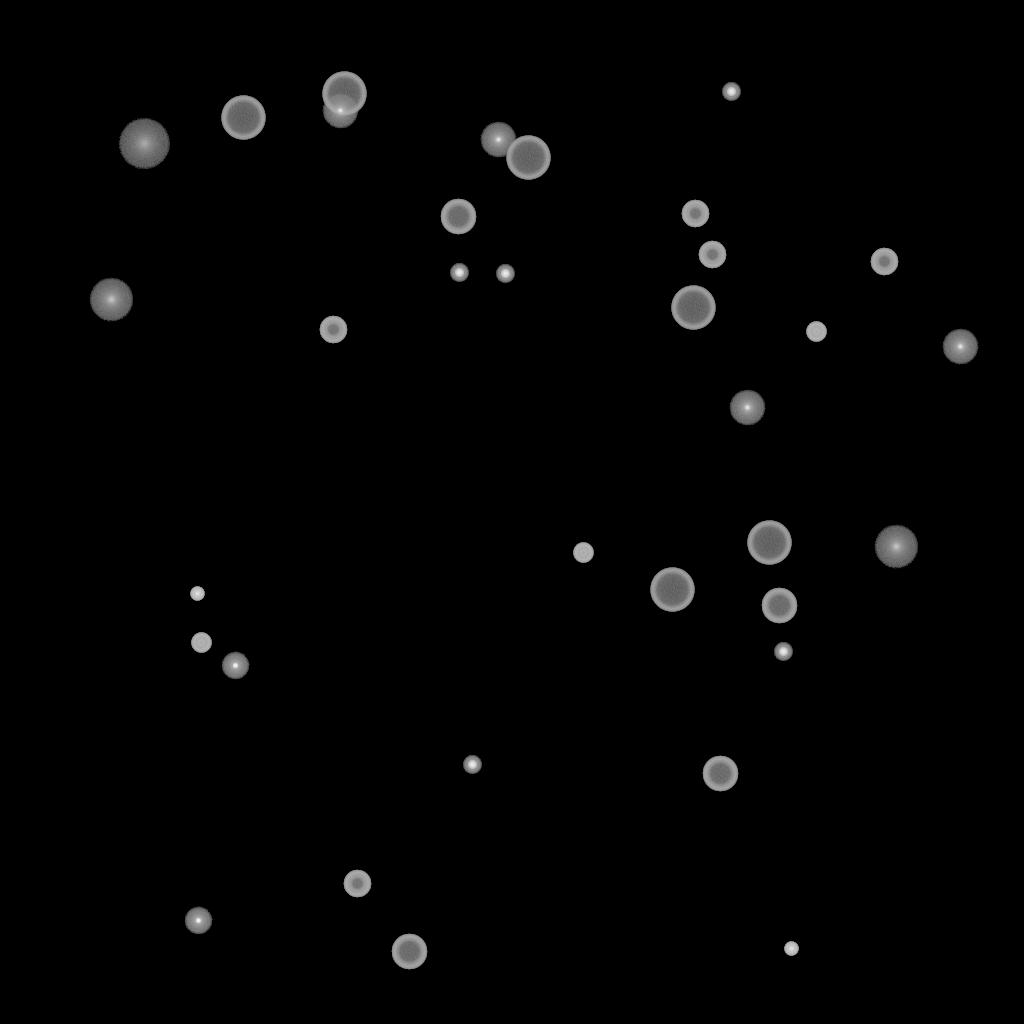depth:-10: (184, 907, 212, 935), (221, 652, 249, 680)
depth:-20: (774, 643, 792, 661), (450, 264, 468, 282), (496, 265, 514, 283), (722, 83, 740, 101), (463, 756, 481, 774)
depth:-30: (190, 587, 204, 601), (784, 942, 798, 956)
depth:-40: (573, 543, 593, 563), (191, 633, 211, 653), (806, 322, 826, 342)
depth:-50: (343, 870, 371, 898), (319, 316, 347, 344), (870, 248, 898, 276), (698, 241, 726, 269), (681, 200, 709, 228)
depth:-60: (391, 934, 427, 970), (440, 199, 476, 235), (761, 588, 797, 624), (702, 756, 738, 792)
depth:-70: (221, 96, 265, 140), (671, 286, 715, 330), (650, 568, 694, 612), (747, 521, 791, 565), (322, 72, 366, 116), (506, 136, 550, 180)
depth:0: (942, 329, 978, 365), (729, 390, 765, 426), (480, 122, 516, 158), (322, 93, 358, 129)
depth:10: (874, 525, 918, 569), (89, 278, 133, 322)
depth:20: (118, 119, 170, 169)
